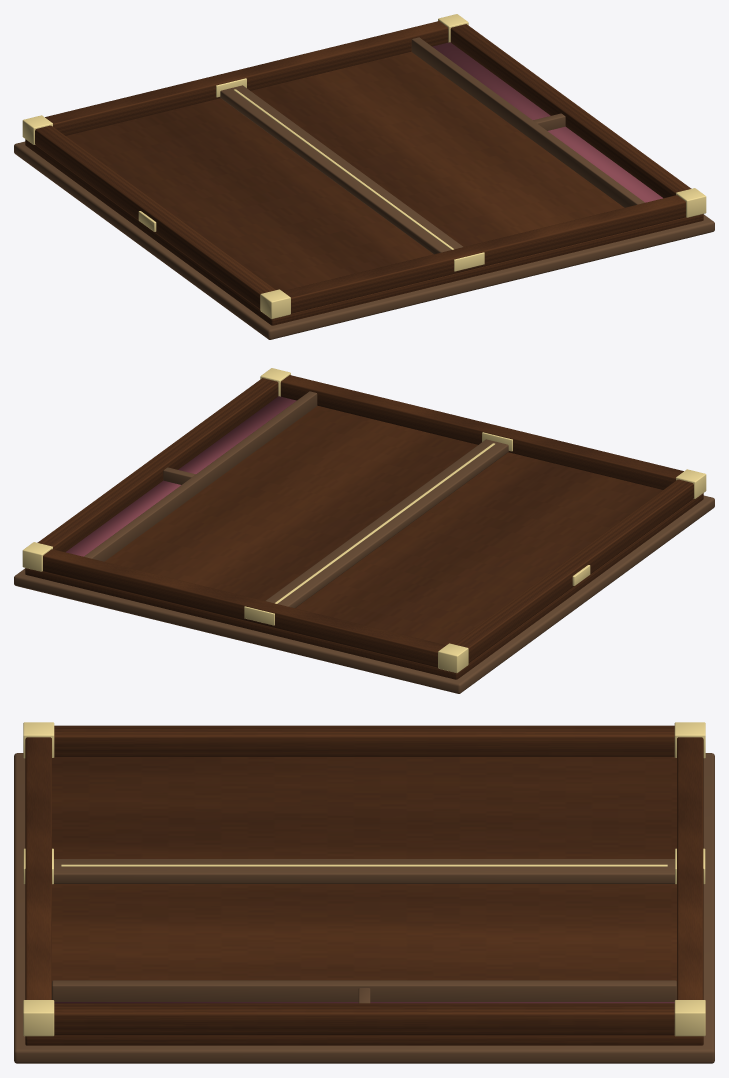
Rendered from backgammon_board_frame.glb.
3 views of the same model, one above another, from view 1: azimuth 30°, elevation 25°; view 2: azimuth 150°, elevation 25°; view 3: azimuth 270°, elevation 25° (orthographic). The views are drawn at different scales.
Visible parts, largest first — view 1: CabinetBase, CabinetPlinth, WallBottom, WallTop, WallLeft, WallRightOuter, CenterBar, WallRightInner, TrayVelvetBed, CornerCap_-1_-1, BarBrassStrip, CornerCap_1_-1; view 2: CabinetBase, CabinetPlinth, WallTop, WallBottom, WallLeft, WallRightOuter, CenterBar, WallRightInner, TrayVelvetBed, CornerCap_-1_1, BarBrassStrip, CornerCap_1_1; view 3: CabinetBase, WallRightOuter, CabinetPlinth, WallLeft, CenterBar, WallRightInner, WallBottom, WallTop, BarBrassStrip, TrayVelvetBed, CornerCap_1_1, CornerCap_1_-1 (+2 smaller).
Part boxes in pixels (bbox=[...]): CabinetBase: bbox=[25, 51, 703, 325]; CabinetPlinth: bbox=[14, 141, 714, 339]; WallBottom: bbox=[283, 195, 685, 313]; WallTop: bbox=[45, 21, 448, 135]; WallLeft: bbox=[35, 125, 275, 308]; WallRightOuter: bbox=[450, 24, 691, 198]; CenterBar: bbox=[220, 85, 462, 254]; WallRightInner: bbox=[411, 37, 644, 207]; TrayVelvetBed: bbox=[432, 42, 662, 202]; CornerCap_-1_-1: bbox=[260, 289, 290, 318]; BarBrassStrip: bbox=[234, 89, 453, 249]; CornerCap_1_-1: bbox=[676, 188, 706, 217]; CabinetBase: bbox=[25, 405, 703, 679]; CabinetPlinth: bbox=[14, 495, 714, 693]; WallTop: bbox=[43, 549, 445, 667]; WallBottom: bbox=[280, 375, 683, 489]; WallLeft: bbox=[453, 479, 693, 662]; WallRightOuter: bbox=[37, 378, 278, 552]; CenterBar: bbox=[266, 439, 508, 608]; WallRightInner: bbox=[84, 391, 317, 561]; TrayVelvetBed: bbox=[66, 396, 296, 556]; CornerCap_-1_1: bbox=[438, 643, 468, 672]; BarBrassStrip: bbox=[275, 443, 494, 603]; CornerCap_1_1: bbox=[22, 542, 52, 571]; CabinetBase: bbox=[25, 757, 703, 1045]; WallRightOuter: bbox=[54, 1003, 674, 1035]; CabinetPlinth: bbox=[14, 753, 714, 1063]; WallLeft: bbox=[54, 725, 674, 756]; CenterBar: bbox=[54, 859, 674, 883]; WallRightInner: bbox=[52, 980, 676, 1001]; WallBottom: bbox=[25, 737, 51, 999]; WallTop: bbox=[677, 737, 703, 999]; BarBrassStrip: bbox=[61, 864, 667, 866]; TrayVelvetBed: bbox=[54, 1002, 674, 1003]; CornerCap_1_1: bbox=[674, 1000, 705, 1036]; CornerCap_1_-1: bbox=[23, 1000, 54, 1036].
Bounding box in the file's own units: 15.38 × 1.16 × 15.26.
Materials: 4 (1 with a texture image).
